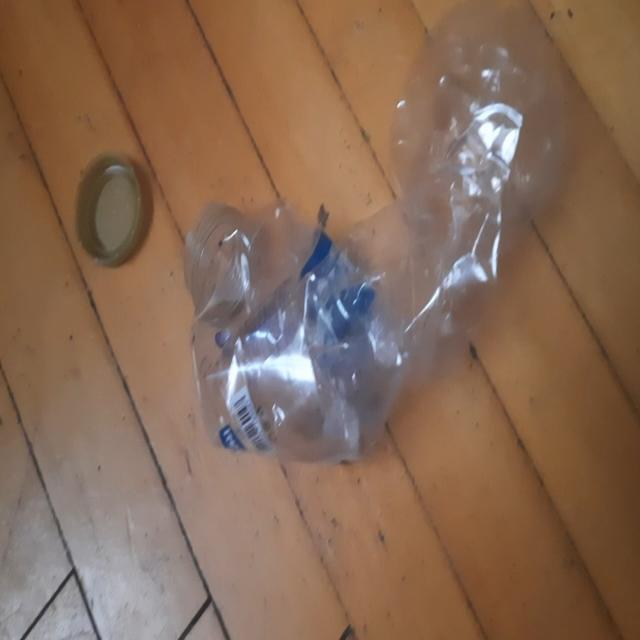Plastic: (188, 1, 566, 464)
